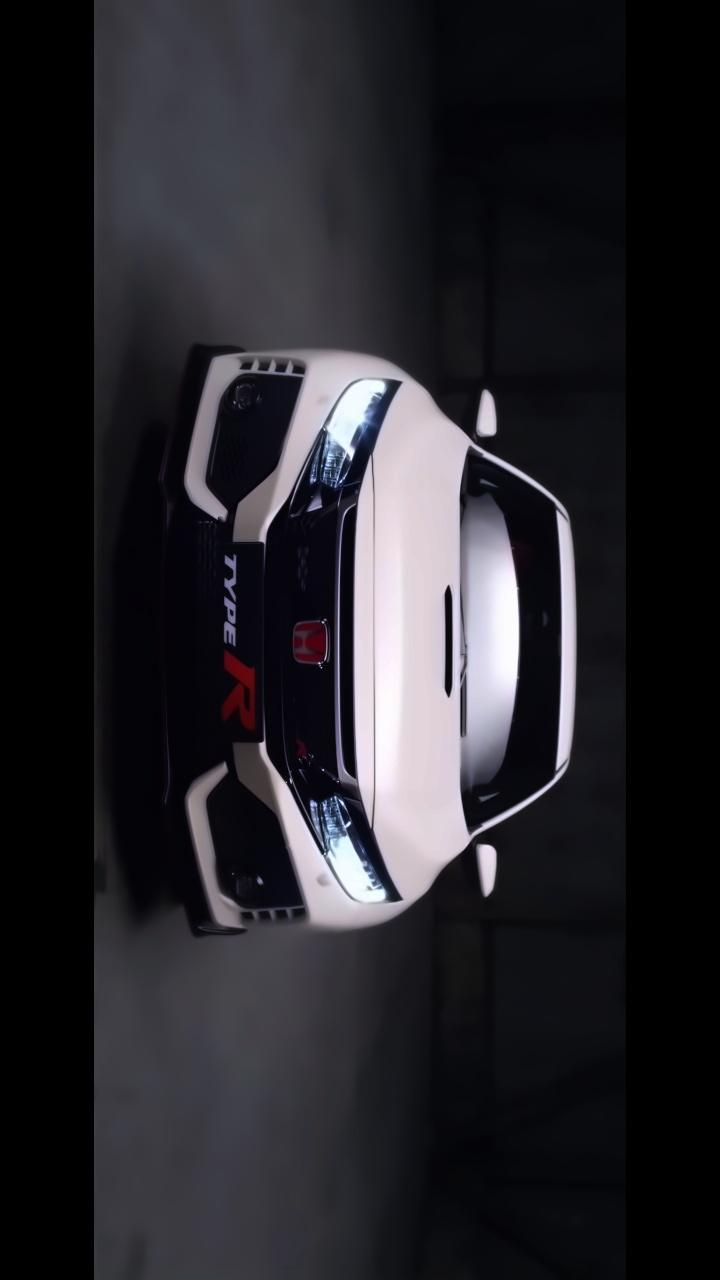Car hood: (350, 366, 475, 902)
Front bumper: (150, 330, 324, 947)
Headlight - -L-: (300, 773, 406, 910)
Headlight - -R-: (279, 370, 409, 530)
Side mirror - -L-: (468, 834, 513, 903)
Side mirror - -R-: (462, 372, 509, 455)
